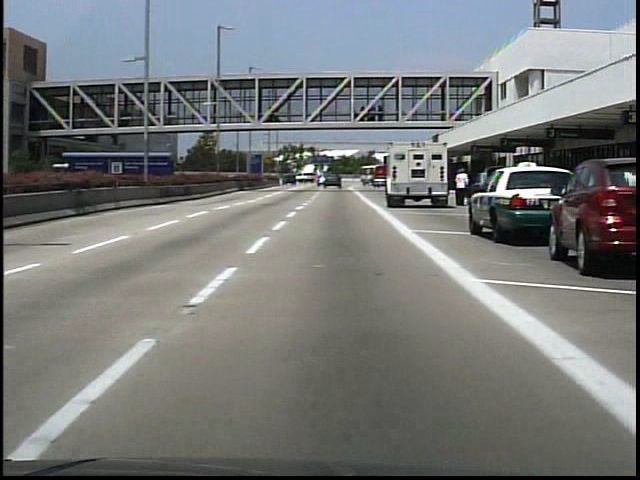person: (453, 168, 468, 209)
